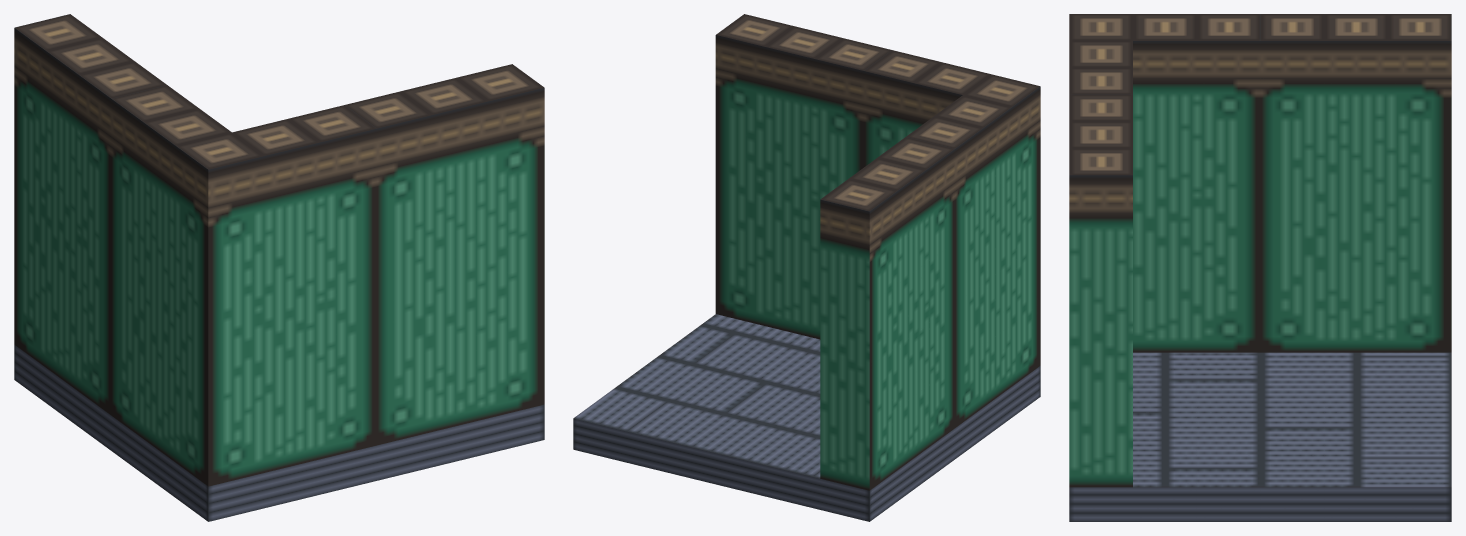
File: 2_wall_corner.FBX
3 renders of one model, left to right at view 1: azimuth 30°, elevation 25°; view 2: azimuth 150°, elevation 25°; view 3: azimuth 270°, elevation 25°, orthographic. The views are drawn at different scales.
Parts seen in each view (by area): view 1: Object000_Element120; view 2: Object000_Element120; view 3: Object000_Element120.
Part boxes in pixels (<box>): Object000_Element120: <box>14,14,544,521</box>; Object000_Element120: <box>573,14,1040,521</box>; Object000_Element120: <box>1069,14,1451,521</box>.
Size of the model in its own units: 100 by 100 by 100.
